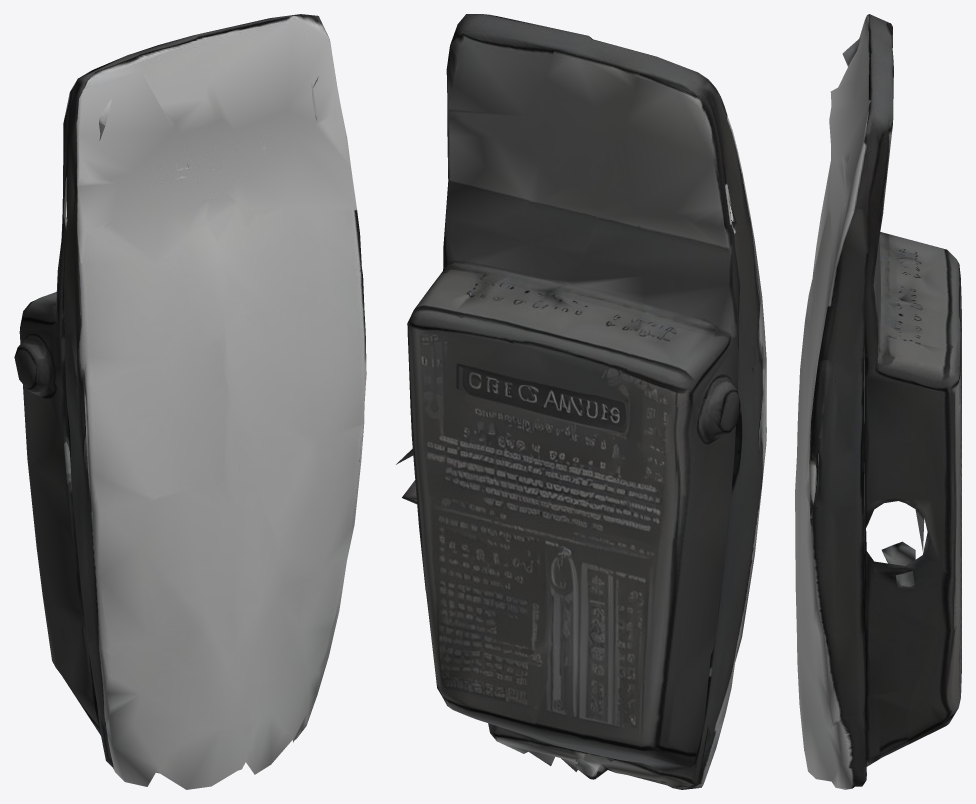
The model's file is laddbox.glb.
3 renders of one model, left to right at view 1: azimuth 30°, elevation 25°; view 2: azimuth 150°, elevation 25°; view 3: azimuth 270°, elevation 25°, orthographic. The views are drawn at different scales.
Parts seen in each view (by area): view 1: elbil; view 2: elbil; view 3: elbil.
Part boxes in pixels (x1,y1,x2,y2): elbil: [14, 14, 366, 789]; elbil: [396, 14, 766, 789]; elbil: [795, 14, 961, 789].
Bounding box in the file's own units: 0.183 × 0.3983 × 0.0852.
Materials: 1 (1 with a texture image).
